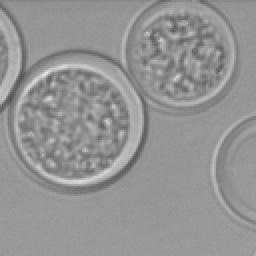picoshell: (4, 50, 146, 192), (120, 0, 238, 114), (210, 114, 256, 229), (0, 4, 24, 106)
